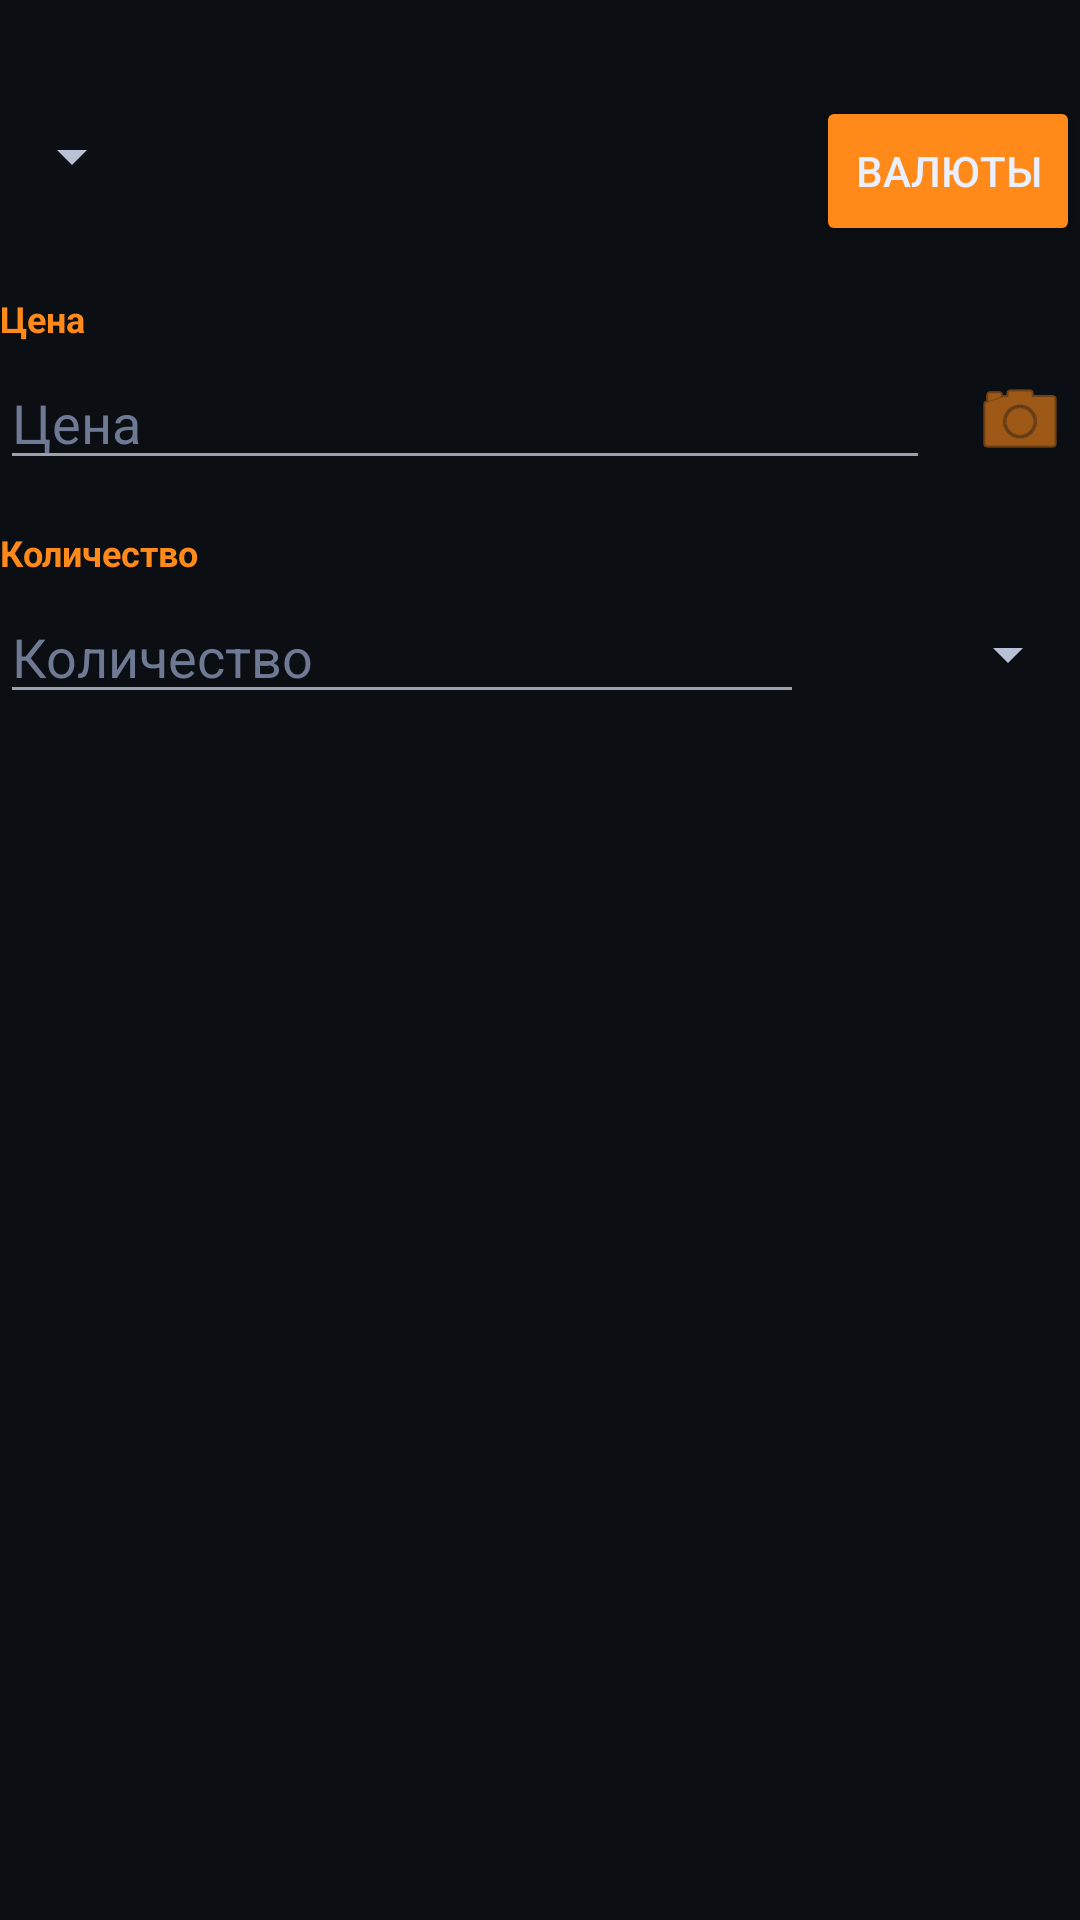

Where to tap for icons on this 1080w x 1920h app screen, as (x,y):
Scan price: (1020,418)
